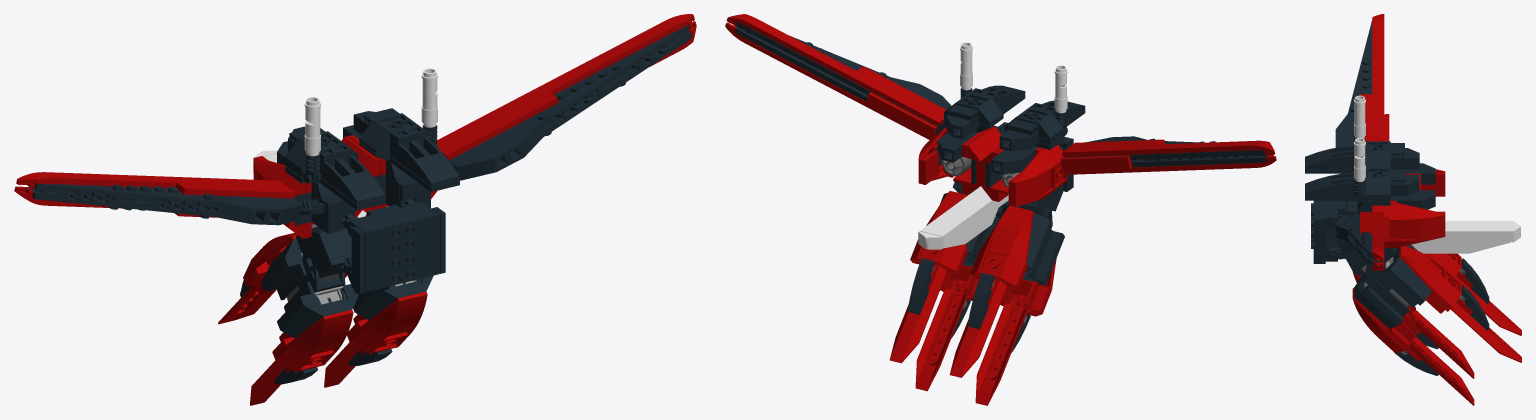
The model's file is gat-x105-strike-aile-pack.dae.
3 renders of one model, left to right at view 1: azimuth 30°, elevation 25°; view 2: azimuth 150°, elevation 25°; view 3: azimuth 270°, elevation 25°, orthographic. The views are drawn at different scales.
Bounding box in the file's own units: 954 × 355 × 490.
